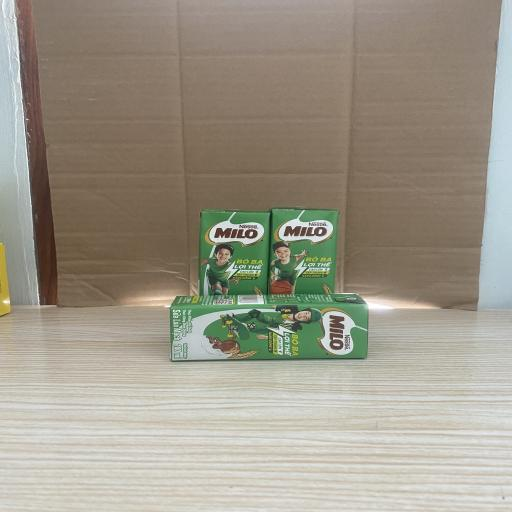milo: (169, 293, 369, 362), (197, 209, 271, 295), (268, 207, 340, 294)
